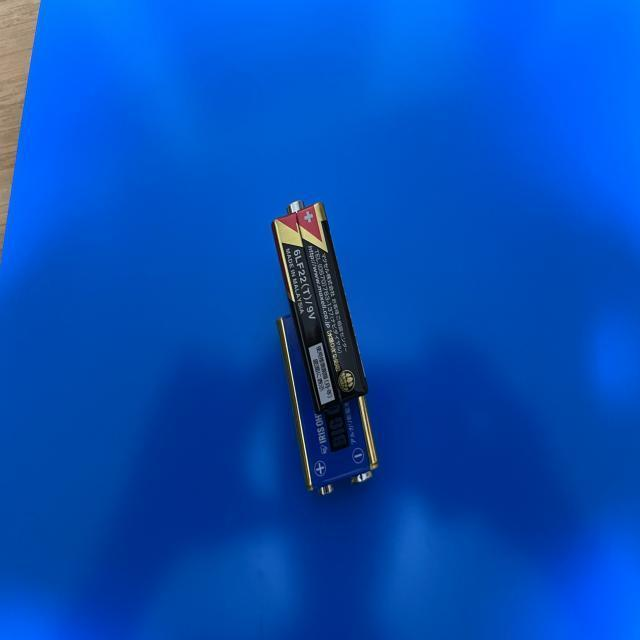9V: (270, 196, 369, 416), (278, 313, 379, 497)
